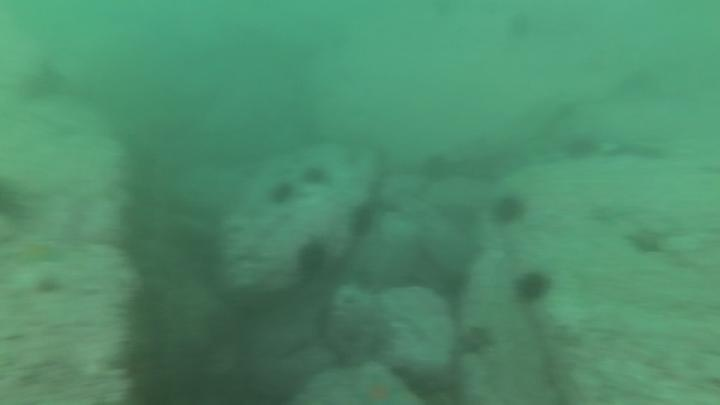echinus: (18, 62, 70, 105), (511, 267, 554, 307), (1, 175, 33, 228), (294, 238, 331, 279), (489, 192, 528, 228), (433, 267, 471, 303), (561, 131, 602, 164), (346, 201, 379, 241), (419, 152, 454, 185), (503, 9, 536, 43), (265, 179, 297, 208), (299, 163, 331, 190)
starfish: (7, 235, 66, 270), (350, 370, 408, 405), (451, 322, 496, 360), (623, 225, 669, 258), (584, 199, 632, 228)
